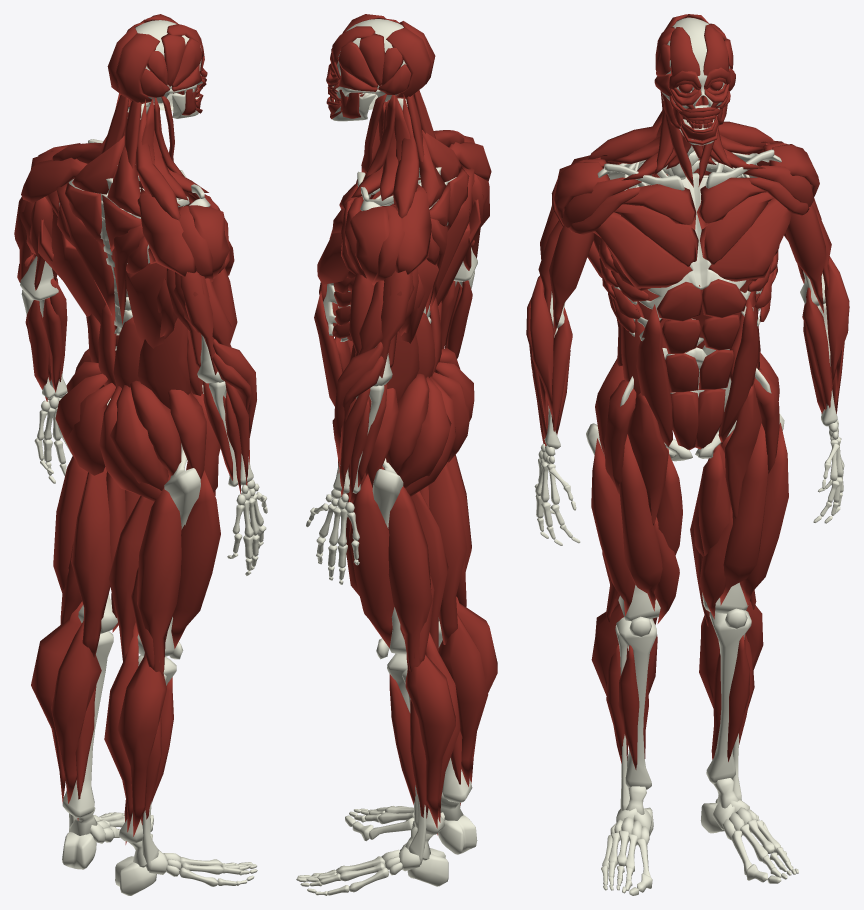
The model's file is muscularColor.fbx.
3 renders of one model, left to right at view 1: azimuth 30°, elevation 25°; view 2: azimuth 150°, elevation 25°; view 3: azimuth 270°, elevation 25°, orthographic.
Parts seen in each view (by area): view 1: D0310037; view 2: D0310037; view 3: D0310037.
Boxes of the visible parts, x1=… form: D0310037: x1=14, y1=14, x2=267, y2=895; D0310037: x1=296, y1=14, x2=497, y2=895; D0310037: x1=526, y1=14, x2=849, y2=895.
Bounding box in the file's own units: 1102 × 5435 × 1878.
